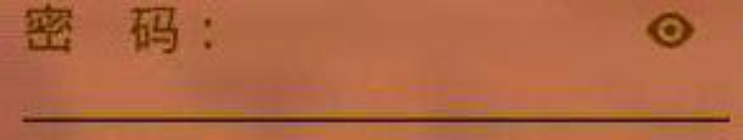EditText: (1, 1, 742, 139)
